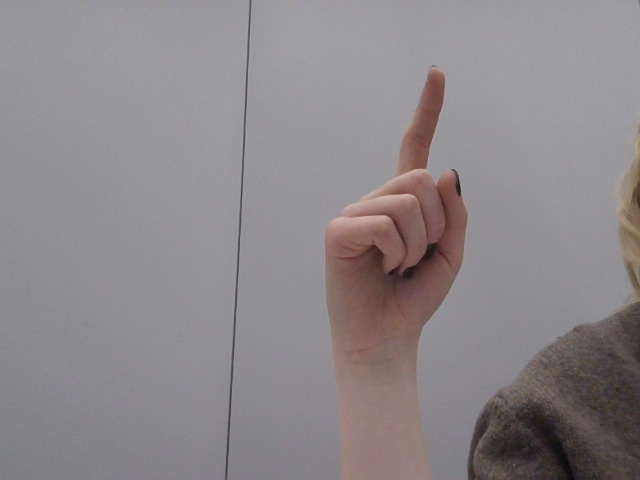up: (308, 56, 487, 382)
